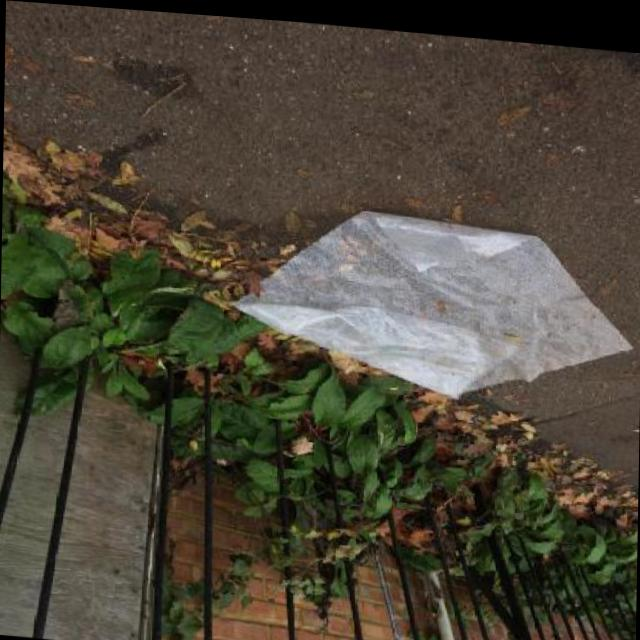plastic: (228, 196, 637, 417)
